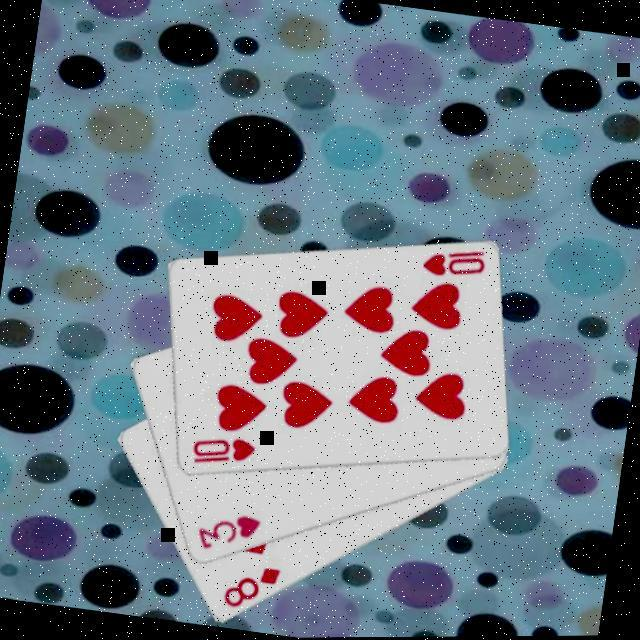10H: (186, 430, 258, 476), (416, 242, 488, 288)
3H: (190, 506, 264, 560)
8D: (218, 560, 282, 618)
